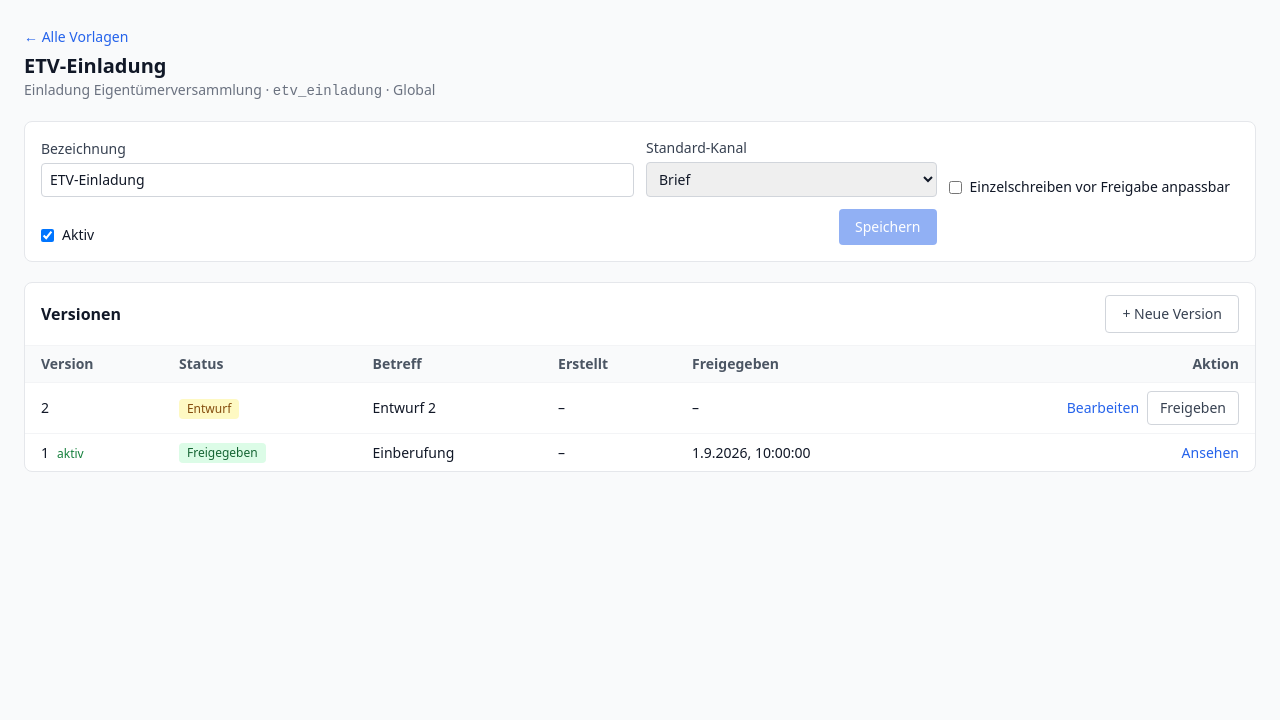
Test: Vorlagen-Detail (Versionen) › gibt einen Entwurf nach Bestätigung frei
Click the button "Freigeben".
click(1193, 408)  # box [1147,391,1239,425]
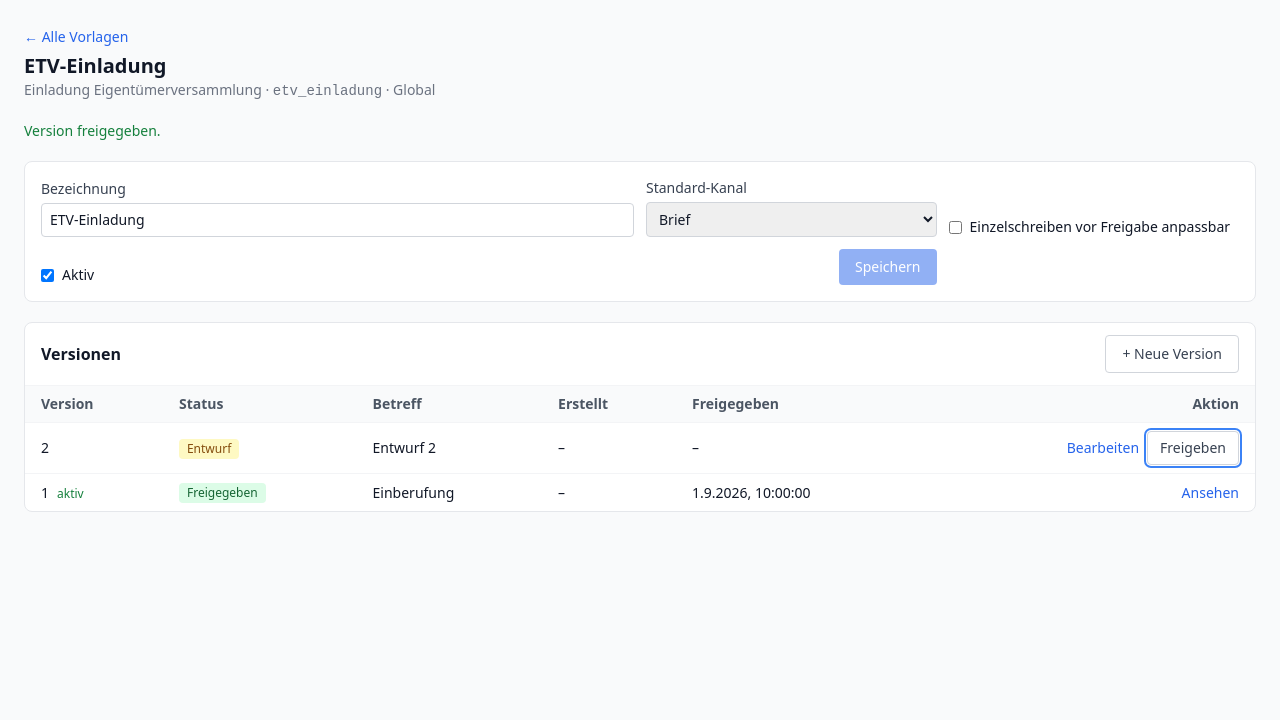
Expected: the text "Version freigegeben." is shown, [24,121,161,140]
